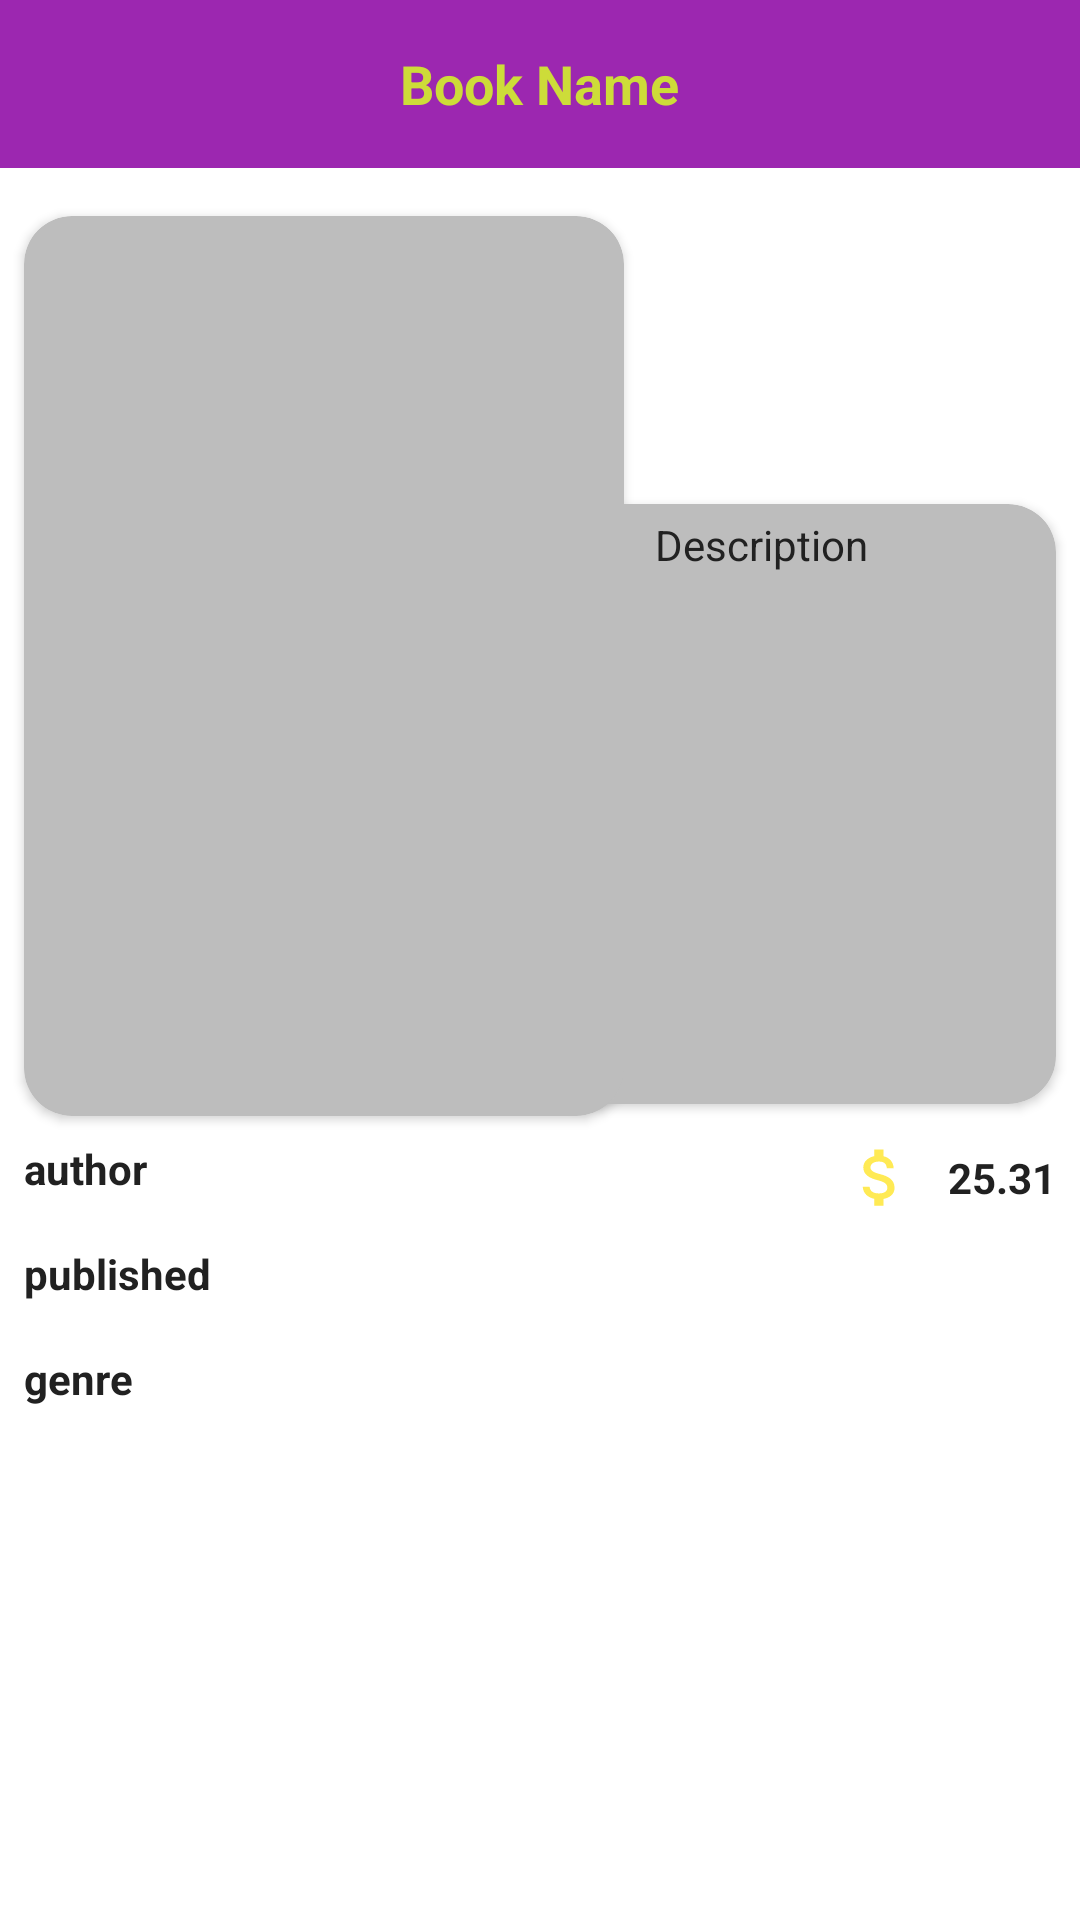

Where icons sit on this 1080w x 1920h app screen, as (x1, y1, x2, y2):
money: (862, 1149, 895, 1206)
